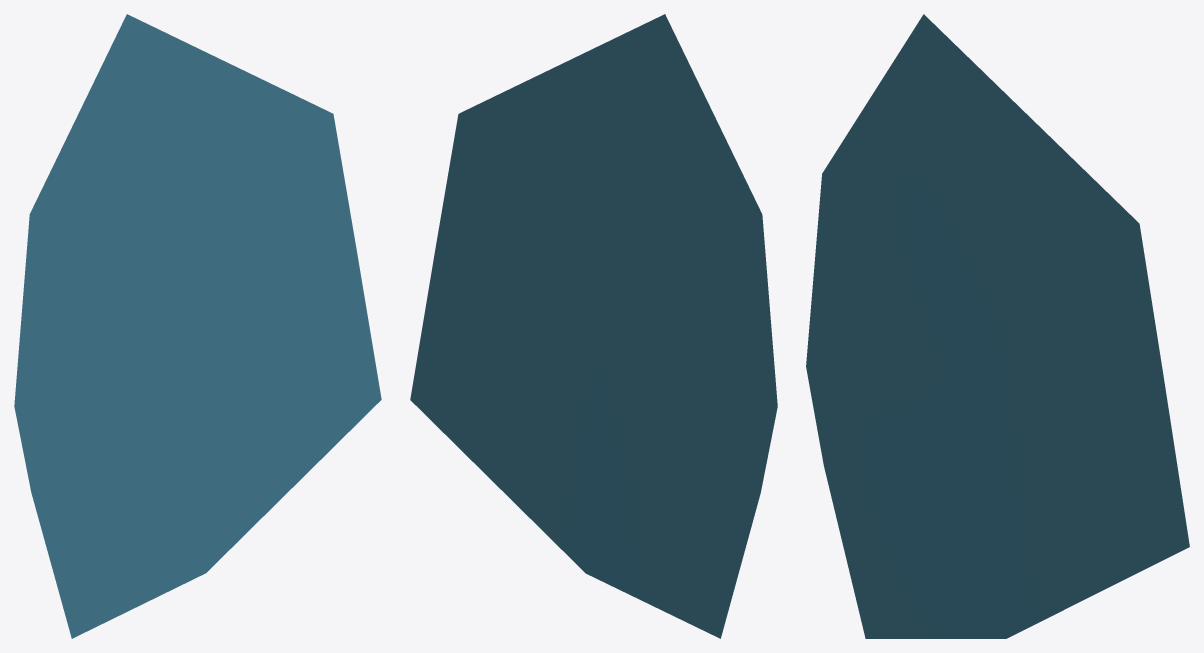
The model's file is NexusA_Cloth_25.fbx.
3 views of the same model, side by side, from view 1: azimuth 30°, elevation 25°; view 2: azimuth 150°, elevation 25°; view 3: azimuth 330°, elevation 25° (orthographic). The views are drawn at different scales.
Visible parts, largest first — view 1: pasted__polySurface70; view 2: pasted__polySurface70; view 3: pasted__polySurface70.
Part boxes in pixels (x1,y1,x2,y2): pasted__polySurface70: [14, 14, 381, 638]; pasted__polySurface70: [410, 14, 777, 638]; pasted__polySurface70: [806, 14, 1189, 638].
Size of the model in its own units: 33.99 by 54.05 by 0.0422.
